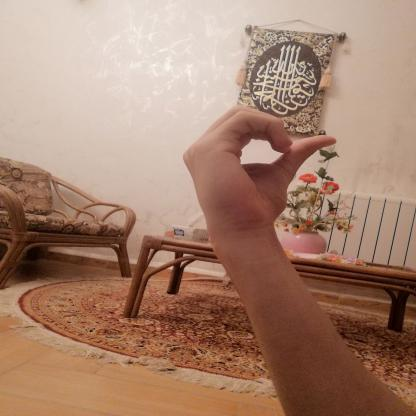WAW: (171, 97, 350, 247)
